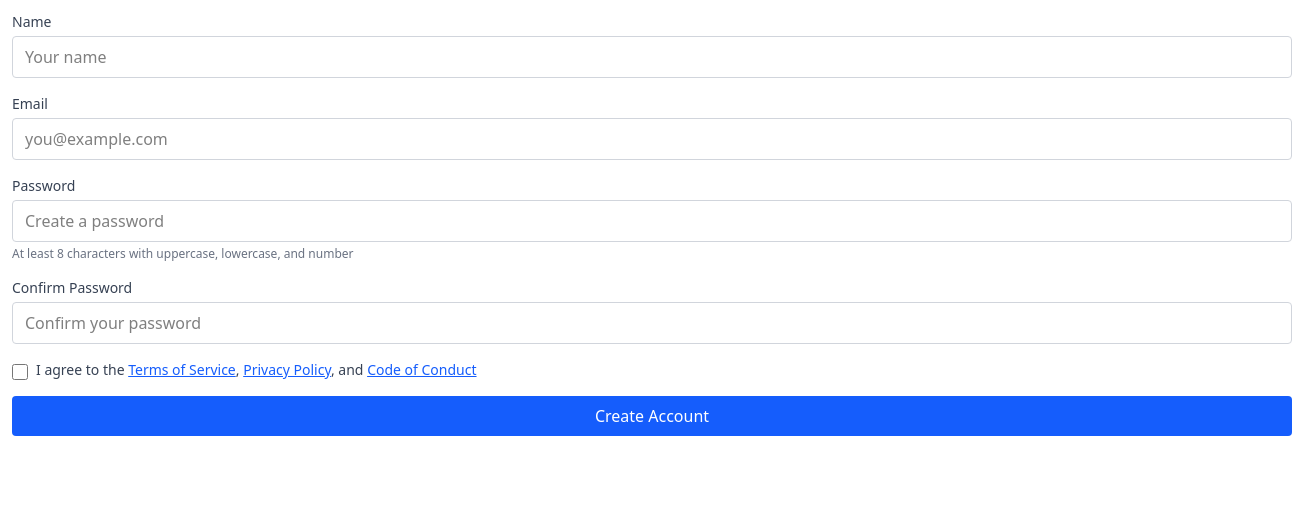
it: RegisterForm › shows validation message for OpprsValidationError
Type "Test User" into the field labelled "Name" at [652, 57], box [12,36,1292,78]
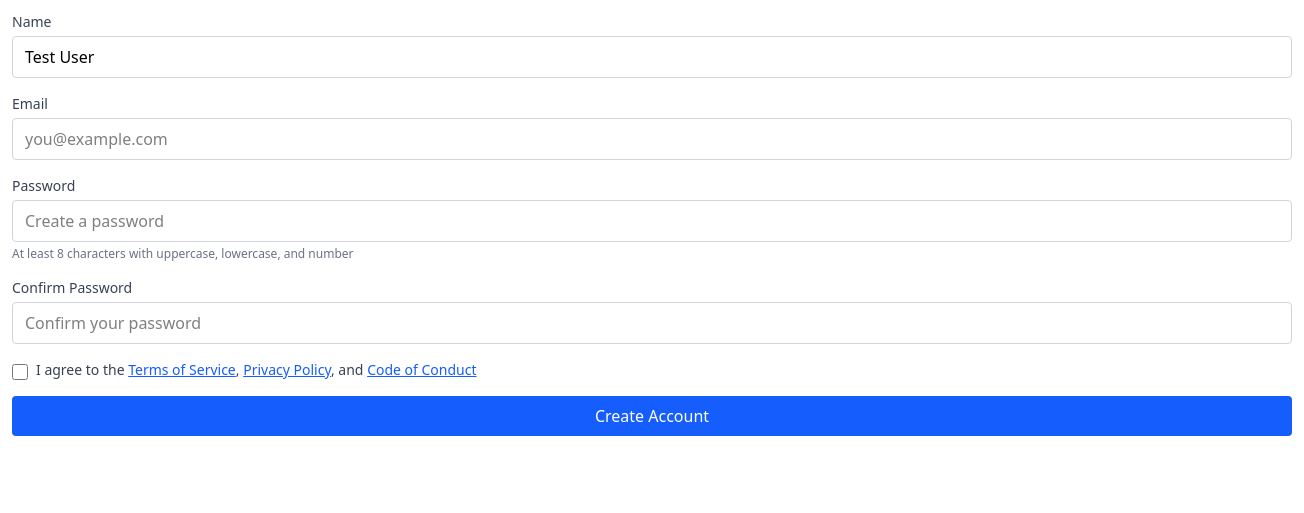
Type "test@example.com" into the field labelled "Email" at [652, 139], box [12,118,1292,160]
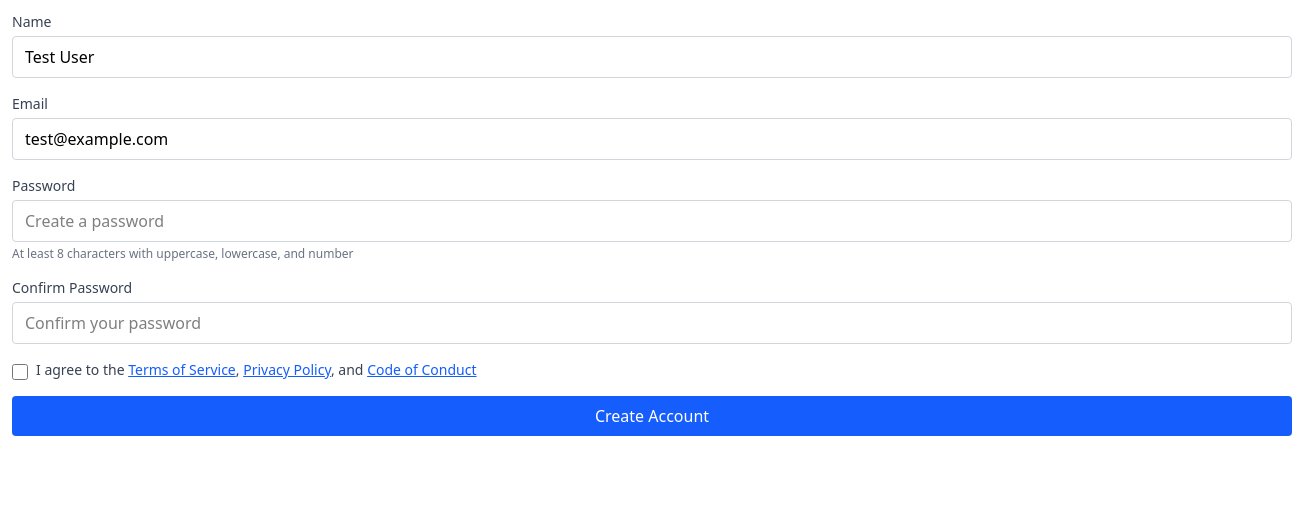
Type "Password123" into the password field labelled "Password" at [652, 221], box [12,200,1292,242]
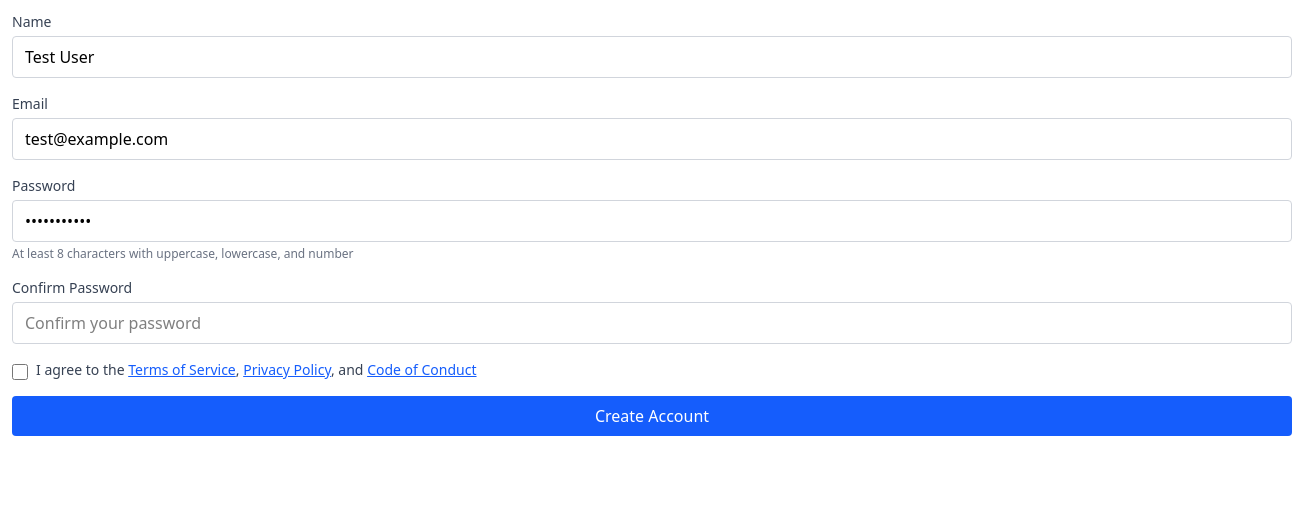
Type "Password123" into the password field labelled "Confirm Password" at [652, 323], box [12,302,1292,344]
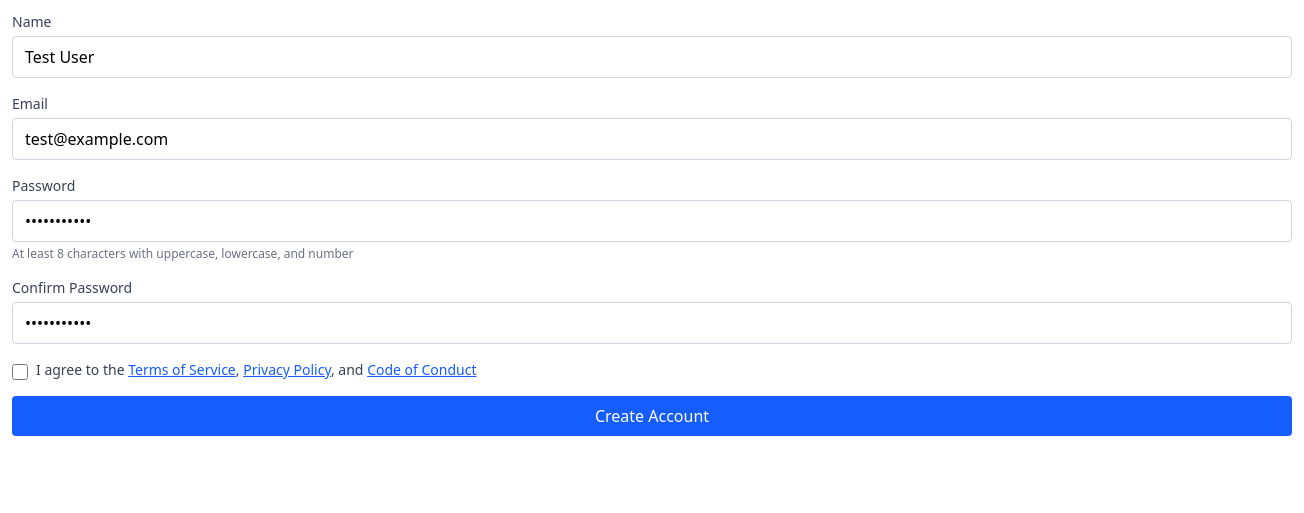
Click the checkbox at [20, 372], box [12,364,28,380]
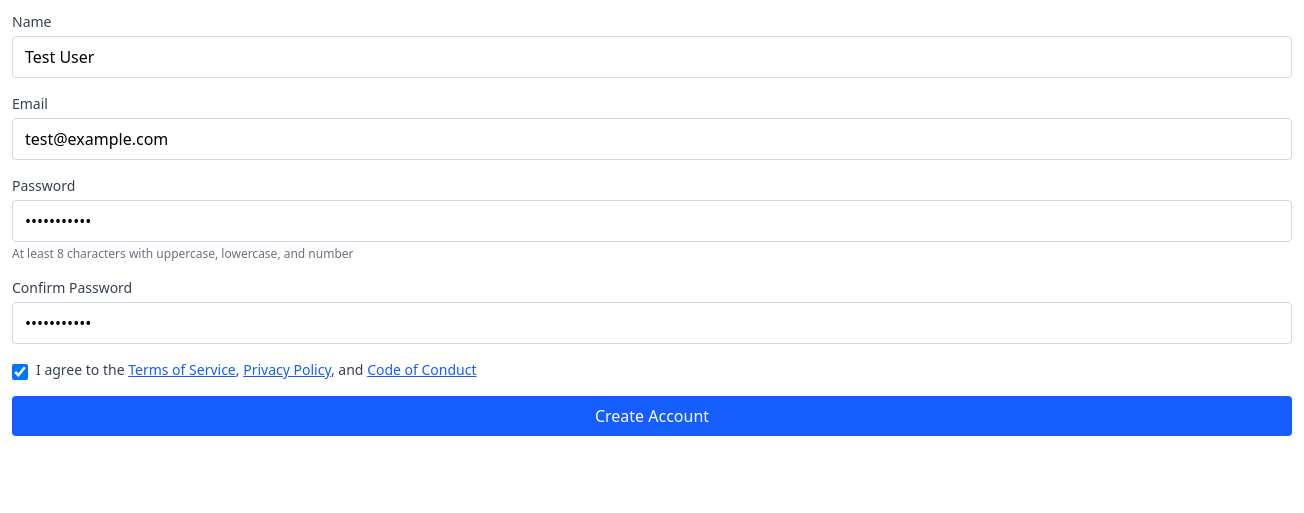
Click the button "Create Account" at [652, 416], box [12,396,1292,436]
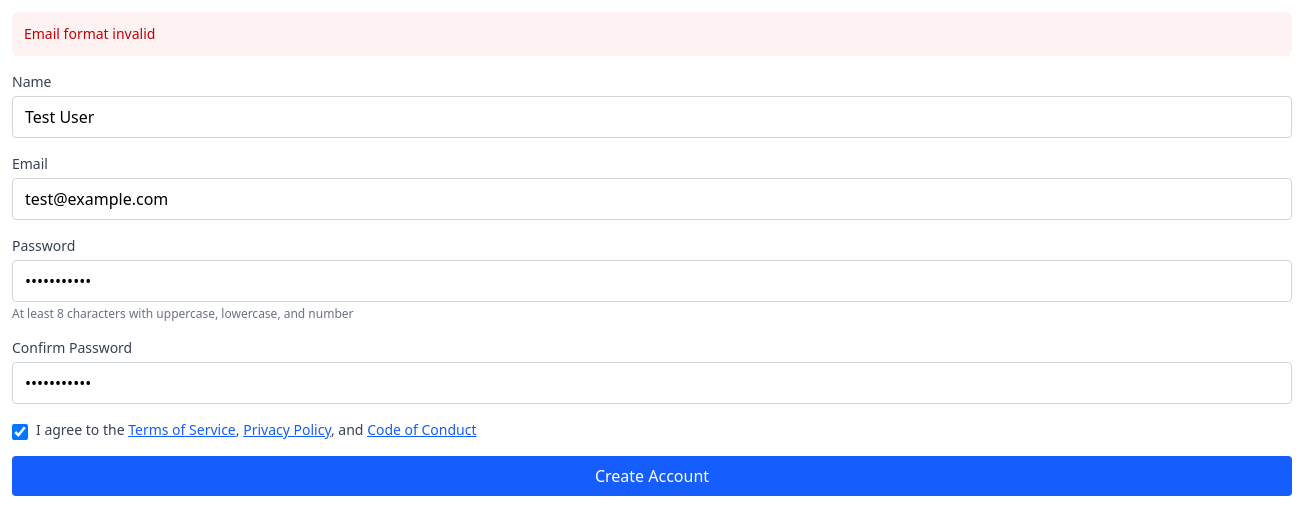
Result: the text "Email format invalid" is shown at [12,12,1292,56]
